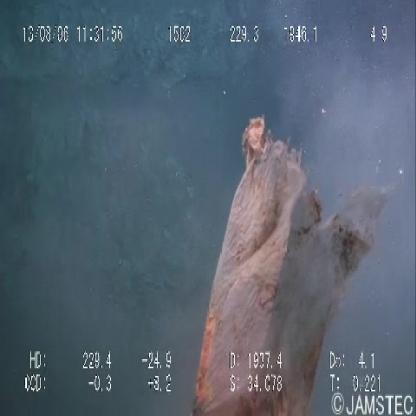Rác: (178, 97, 404, 416)
